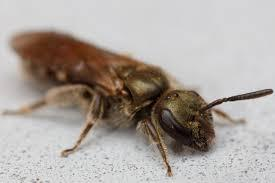Lasioglossum: (8, 24, 275, 179)
